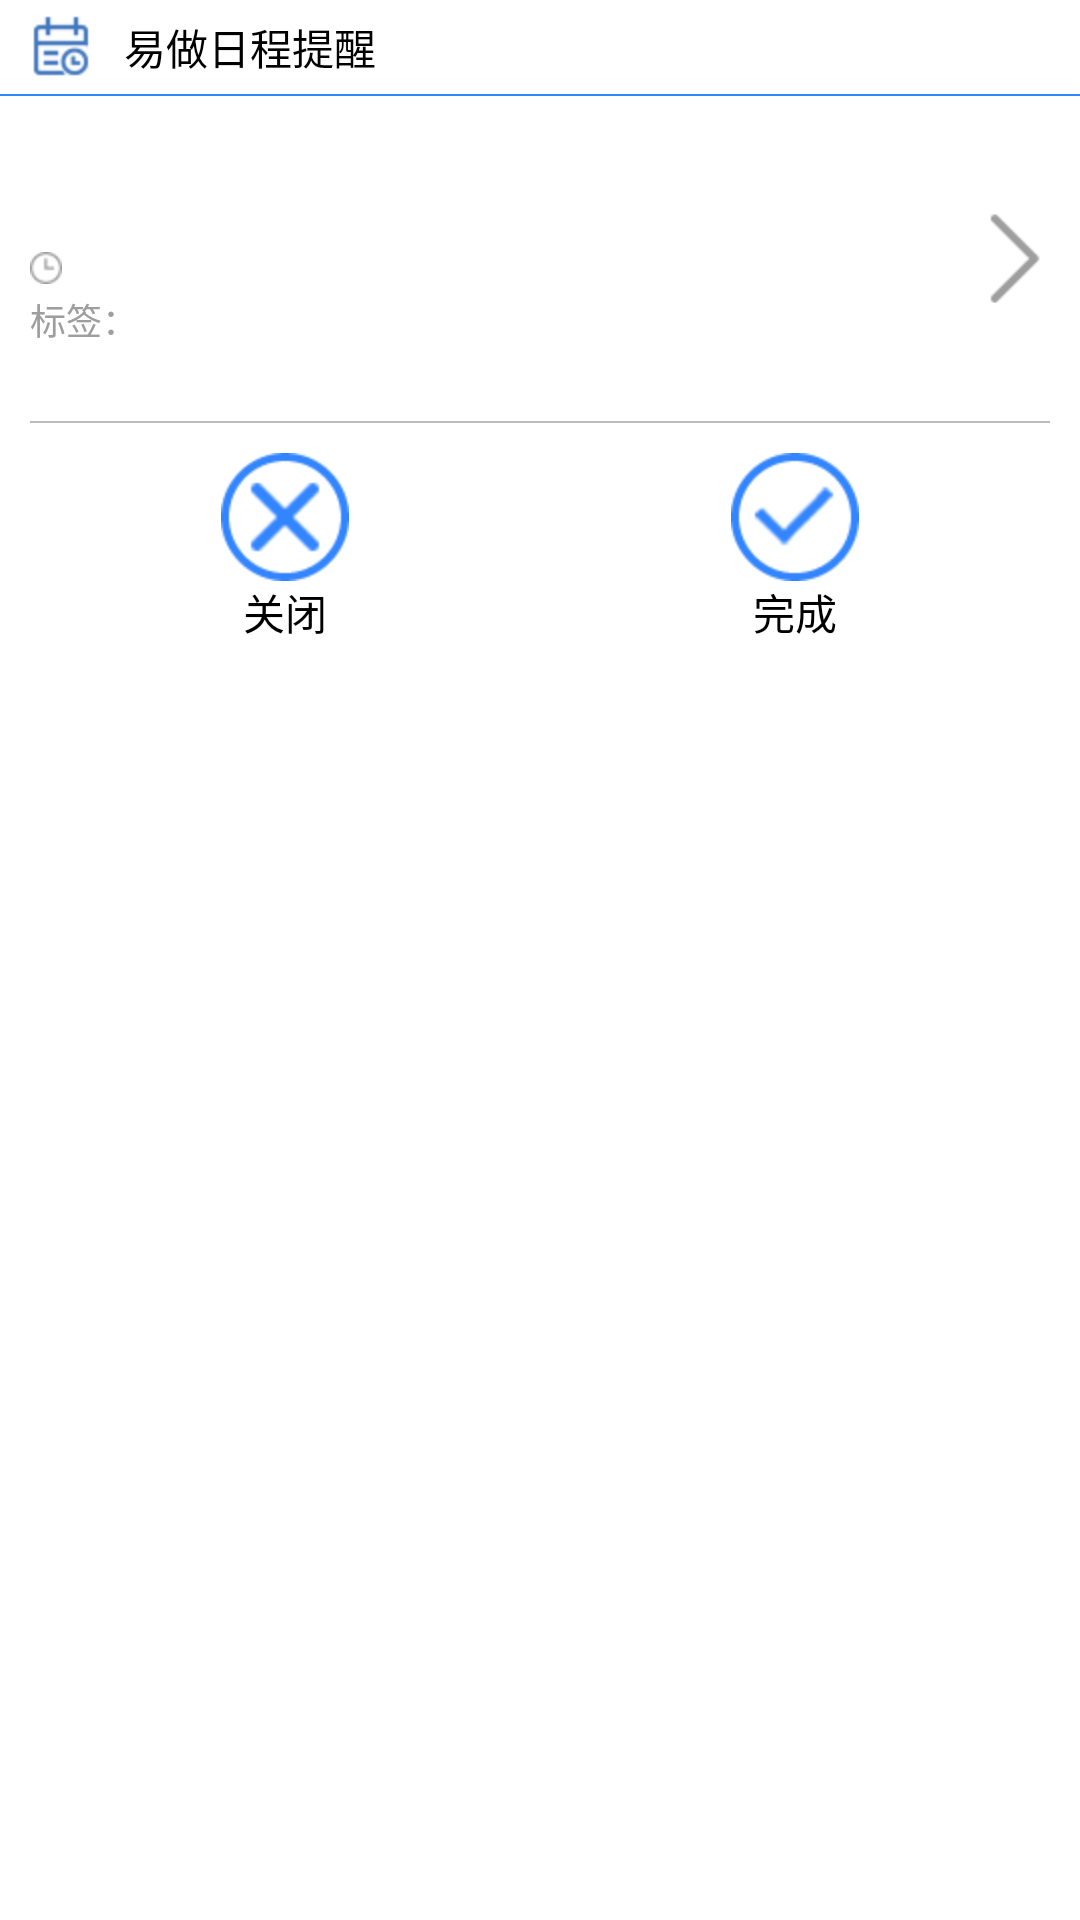

Where icons sit on this 1080 x 1920 app screen, as (x1, y1, x2, y2):
clock: (30, 252, 62, 284)
detail: (991, 214, 1039, 303)
